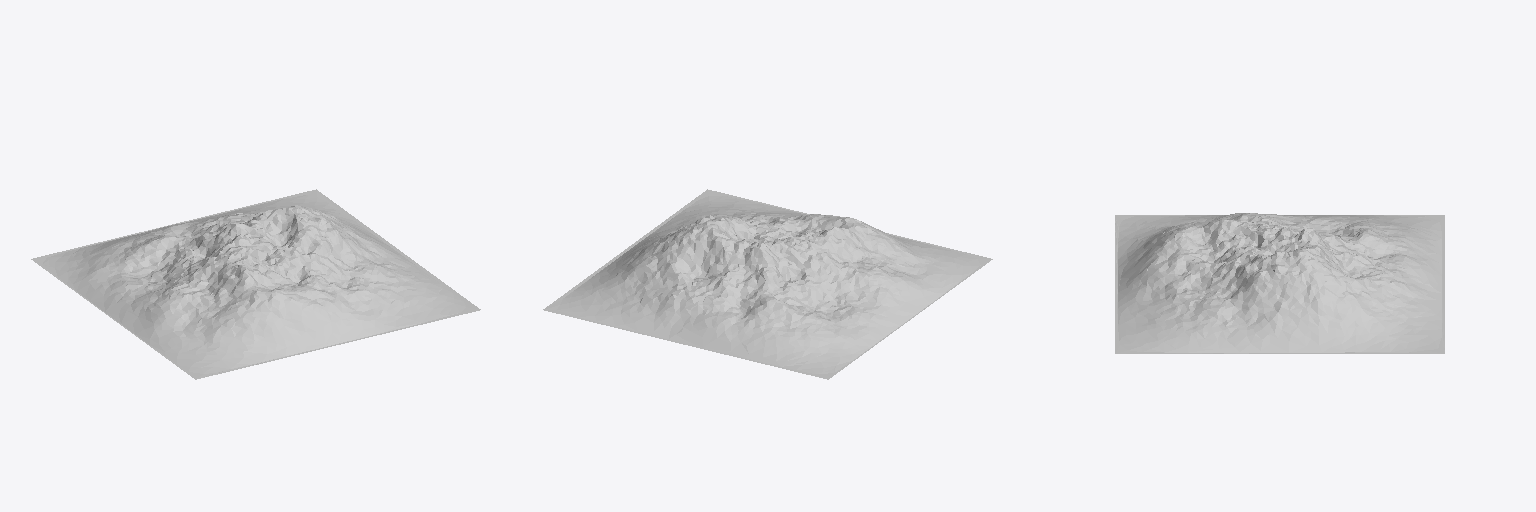
Rendered from MunteDoi3k.obj.
The picture shows the model from 3 angles: view 1: azimuth 30°, elevation 25°; view 2: azimuth 150°, elevation 25°; view 3: azimuth 270°, elevation 25°; orthographic projection.
Parts seen in each view (by area): view 1: MountainTerrain; view 2: MountainTerrain; view 3: MountainTerrain.
Boxes of the visible parts, box(x1,y1,x2,y2) form: MountainTerrain: box(31, 189, 480, 379); MountainTerrain: box(543, 189, 992, 379); MountainTerrain: box(1115, 213, 1444, 353).
Bounding box in the file's own units: 200 × 38.23 × 200.